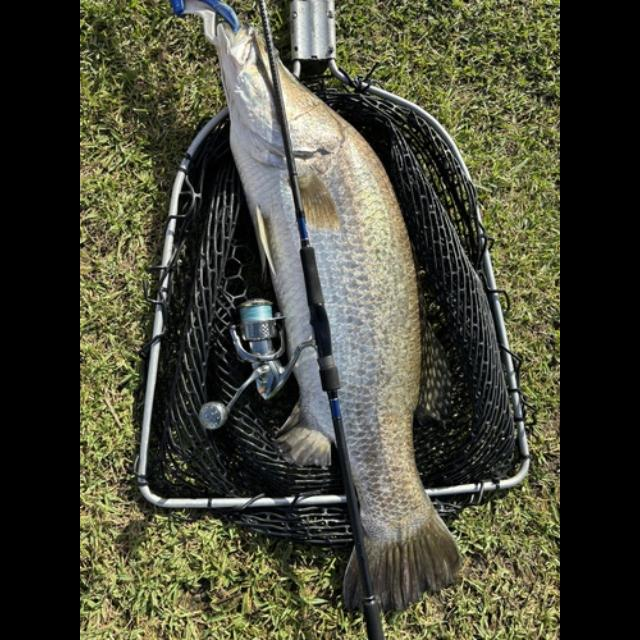Seabass: (212, 19, 462, 613)
